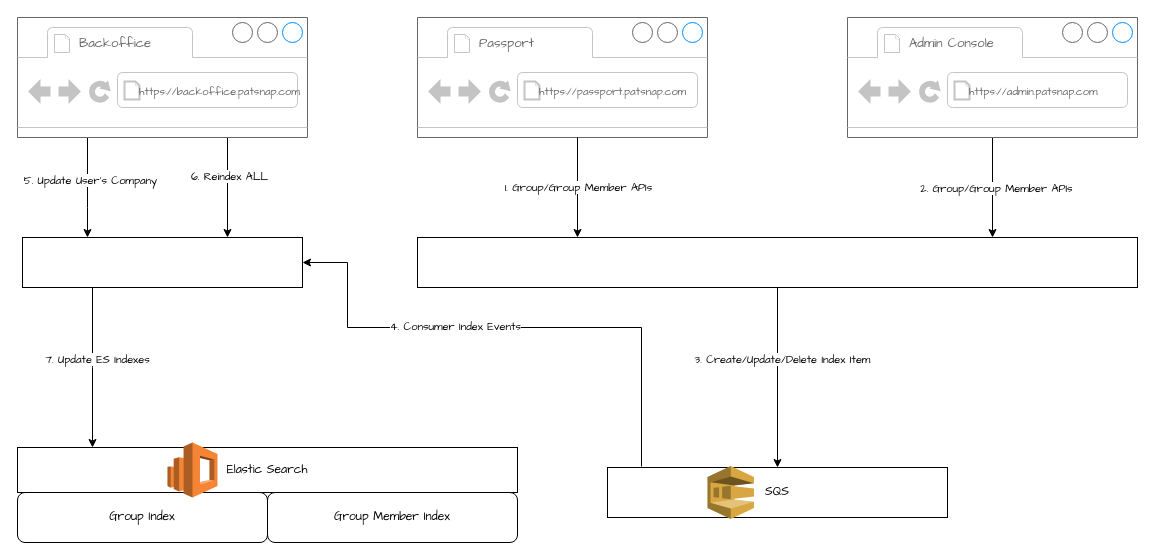
This 1155x560 diagram has some shape labels left out. The centre of each missing label's shape, as x and y in pixels:
"Backoffice Backend Service" goes at point (162, 262).
"Identity Service" goes at point (777, 262).
